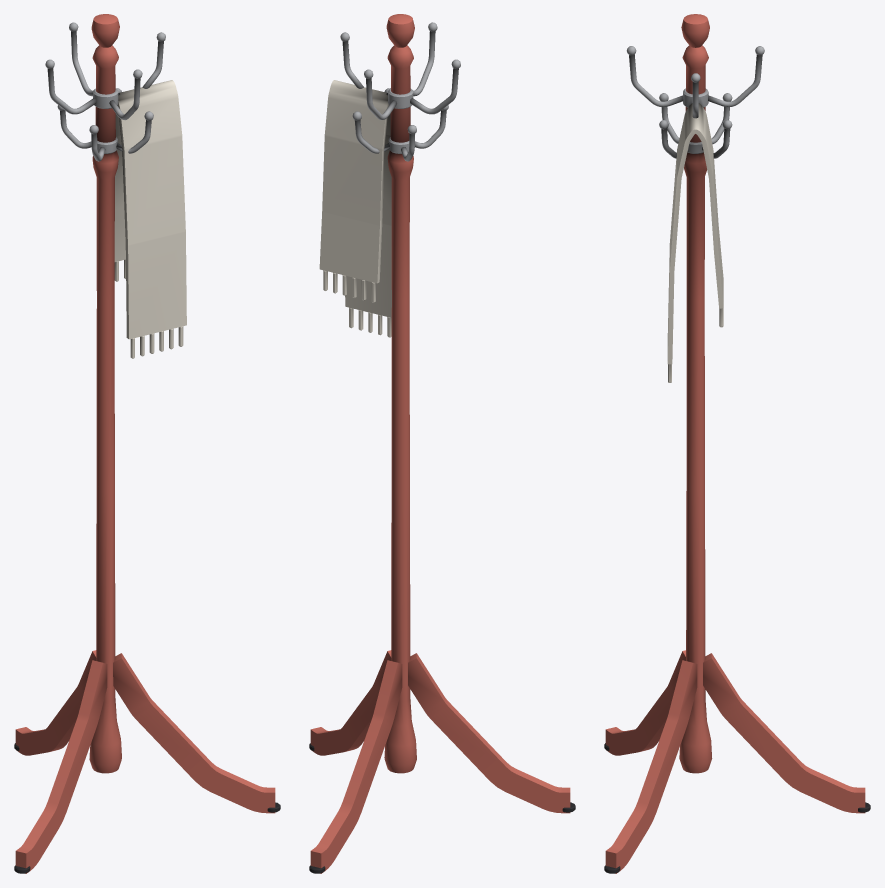
The model's file is junk_hanger.glb.
3 renders of one model, left to right at view 1: azimuth 30°, elevation 25°; view 2: azimuth 150°, elevation 25°; view 3: azimuth 270°, elevation 25°, orthographic.
Visible parts, largest first — view 1: PART; view 2: PART; view 3: PART.
Part boxes in pixels (left/top/right/bottom): PART: left=14, top=14, right=280, bottom=873; PART: left=309, top=14, right=575, bottom=873; PART: left=604, top=14, right=870, bottom=873.
Size of the model in its own units: 0.5934 by 1.71 by 0.5183.
